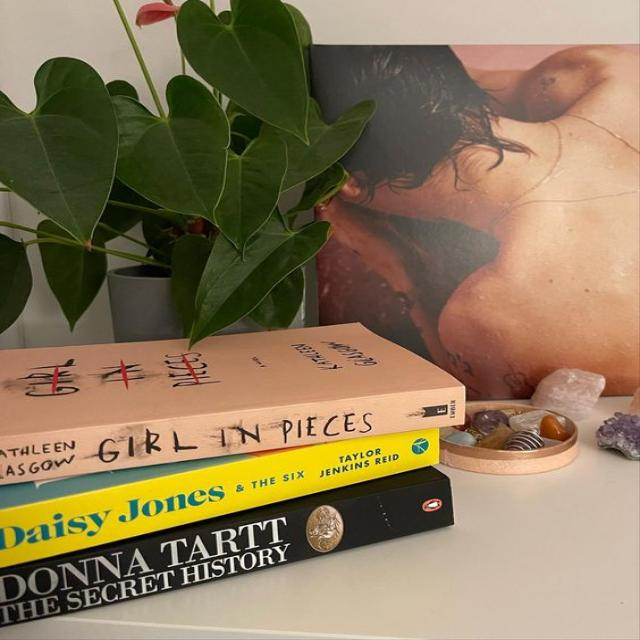book: (0, 467, 453, 626), (0, 429, 438, 567), (0, 389, 462, 483)
plants: (0, 0, 376, 346)
